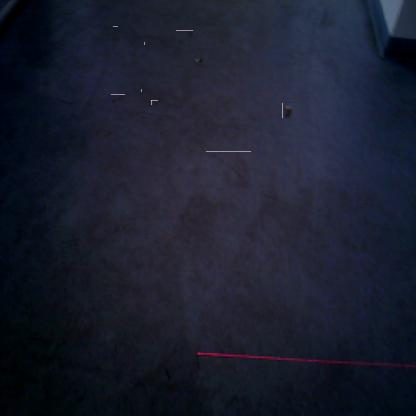dirty: (282, 102, 293, 118), (194, 55, 202, 65)
mark: (205, 151, 251, 188), (317, 6, 335, 30), (176, 30, 193, 46), (261, 191, 277, 201), (111, 94, 125, 105), (180, 103, 186, 111), (112, 27, 119, 33), (145, 41, 151, 46), (152, 100, 157, 106), (141, 88, 146, 92)
